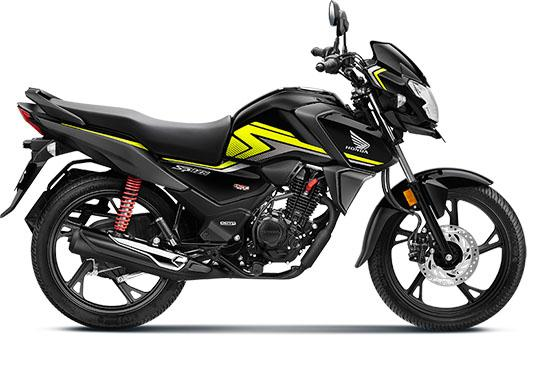motorbike: (1, 1, 527, 330)
